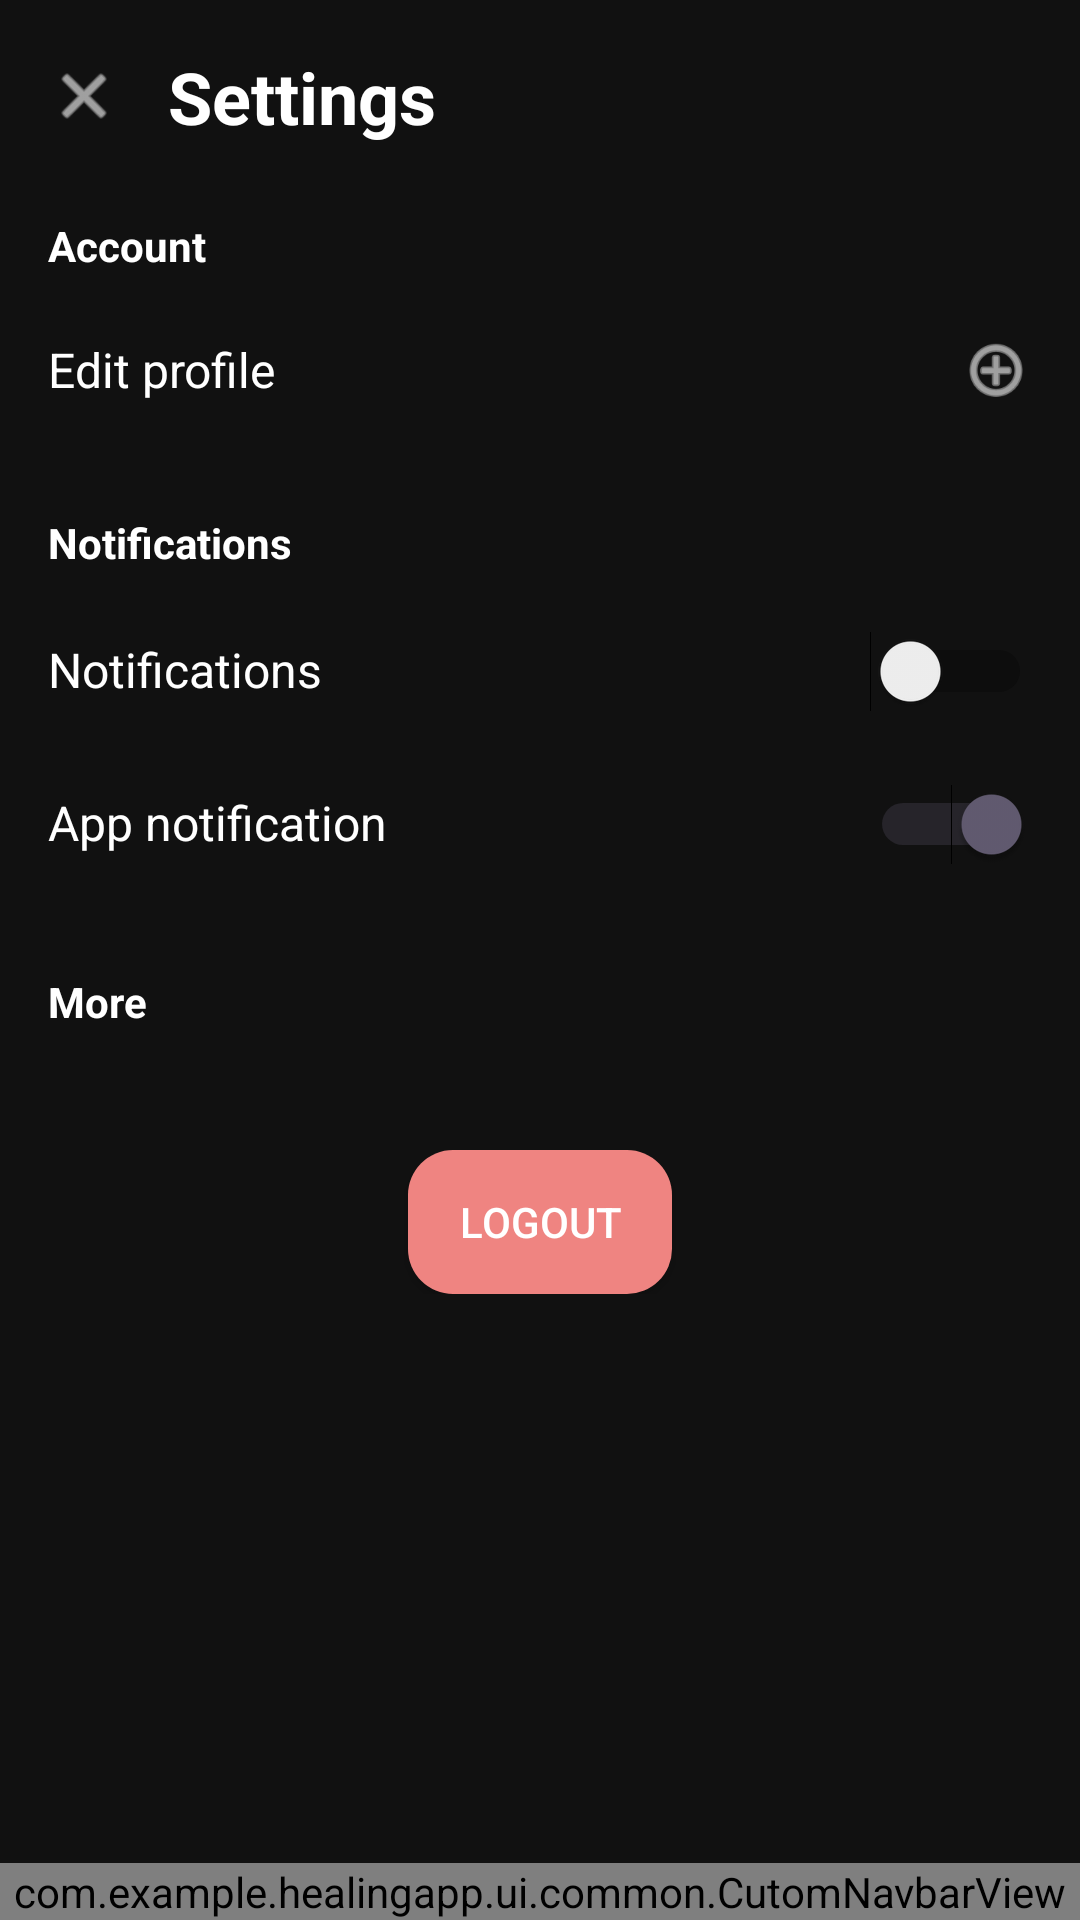

Screen size 1080px×1920px. Icon name, then its box in pixels as bbox(x1, y1, x2, y2):
add: bbox(969, 344, 1023, 397)
close clear cancel: bbox(61, 73, 107, 119)
